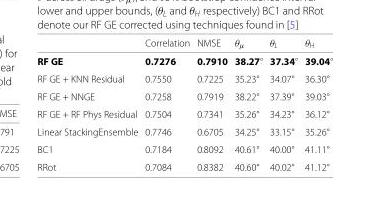table: (36, 36, 332, 172)
table column: (36, 36, 140, 172), (140, 36, 192, 172), (192, 36, 230, 172), (230, 36, 265, 172), (265, 36, 300, 172), (300, 36, 332, 172)
table column header: (36, 36, 332, 51)
table row: (36, 51, 332, 69), (36, 69, 332, 87), (36, 104, 332, 122), (36, 122, 332, 140), (36, 87, 332, 104), (36, 140, 332, 157), (36, 36, 332, 51), (36, 157, 332, 172)
